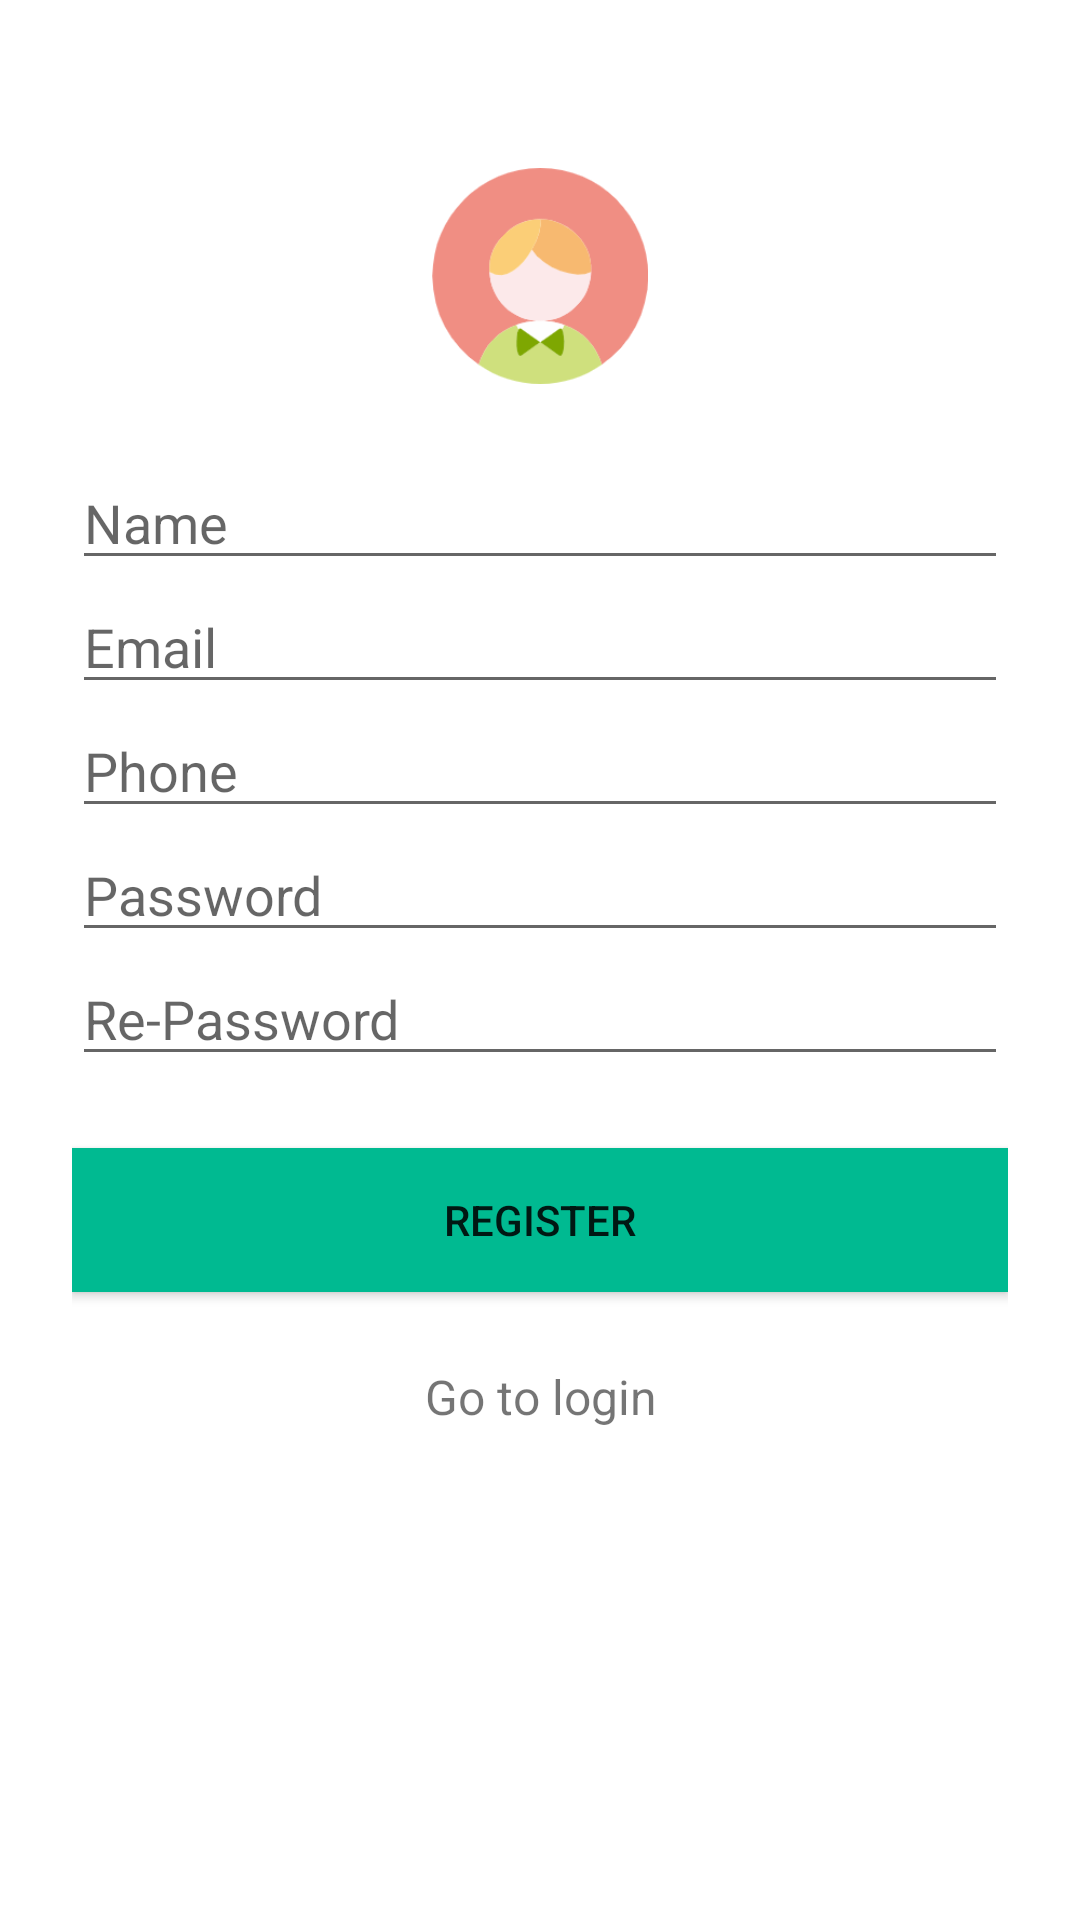

Screen size 1080x1920. Icon name, then its center in pixels as (x,y):
profile: (540,276)
